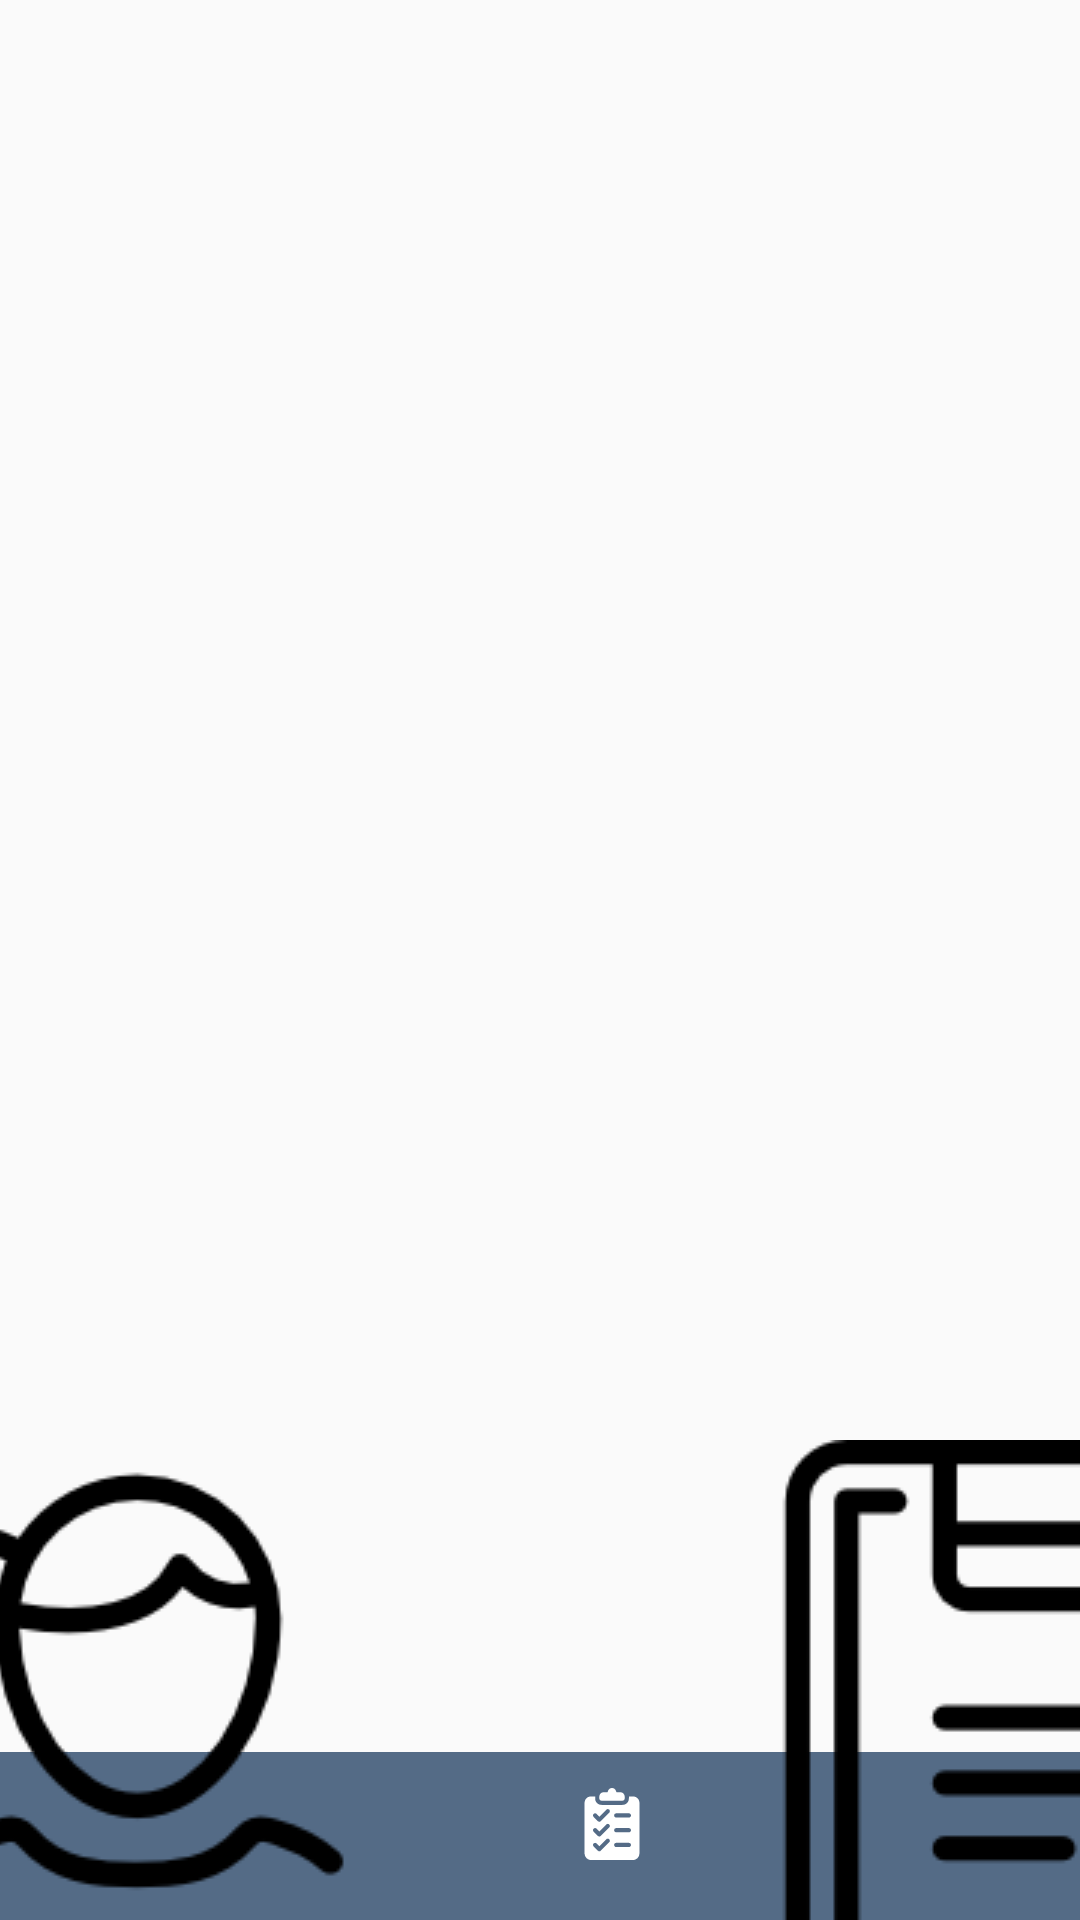

Icons on this 1080×1920 Android screen, each with its box as [left=x1, top=y1, right=x2, bottom=y2]:
list of tasks: [left=584, top=1788, right=640, bottom=1860]
